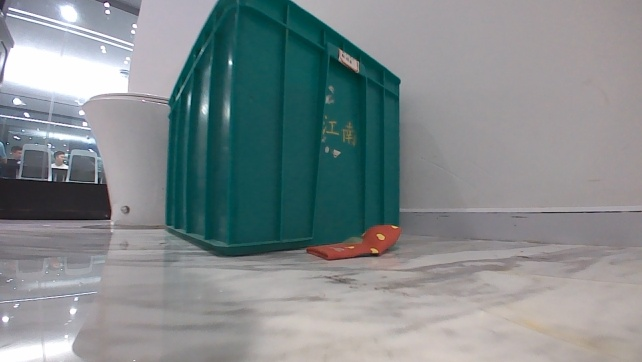socks: (304, 221, 402, 260)
toilet: (78, 88, 174, 230)
